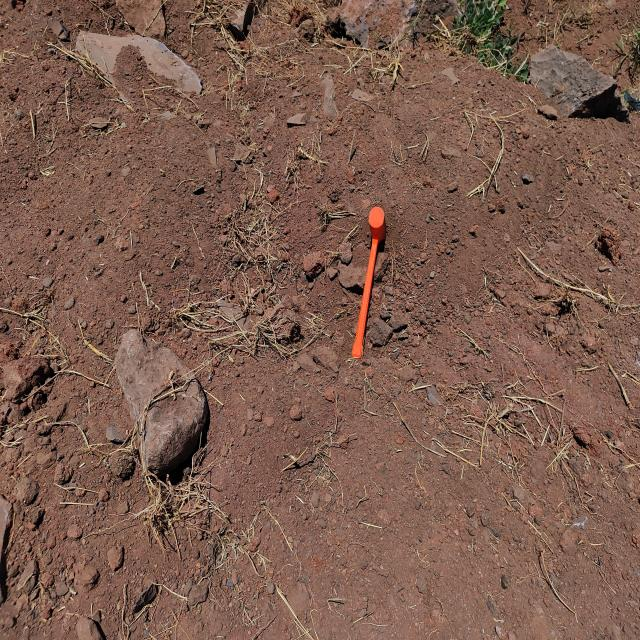Orange_hammer: (351, 205, 386, 359)
